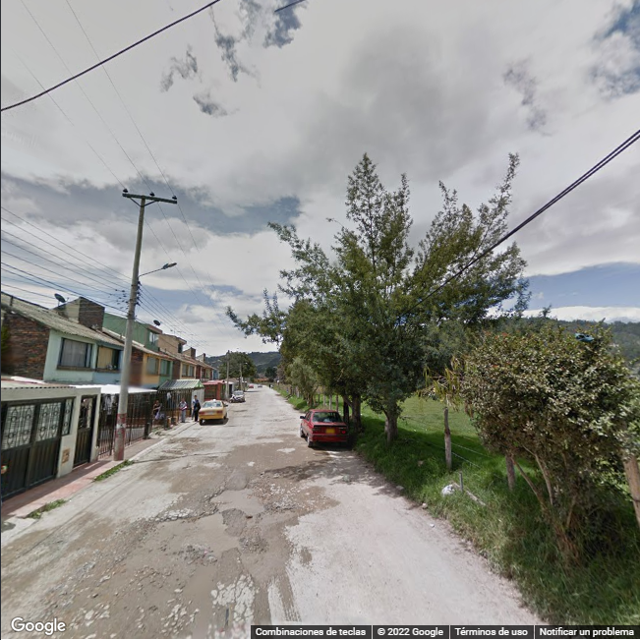D00: (231, 569, 243, 630)
D40: (148, 513, 234, 560), (213, 488, 268, 513)
